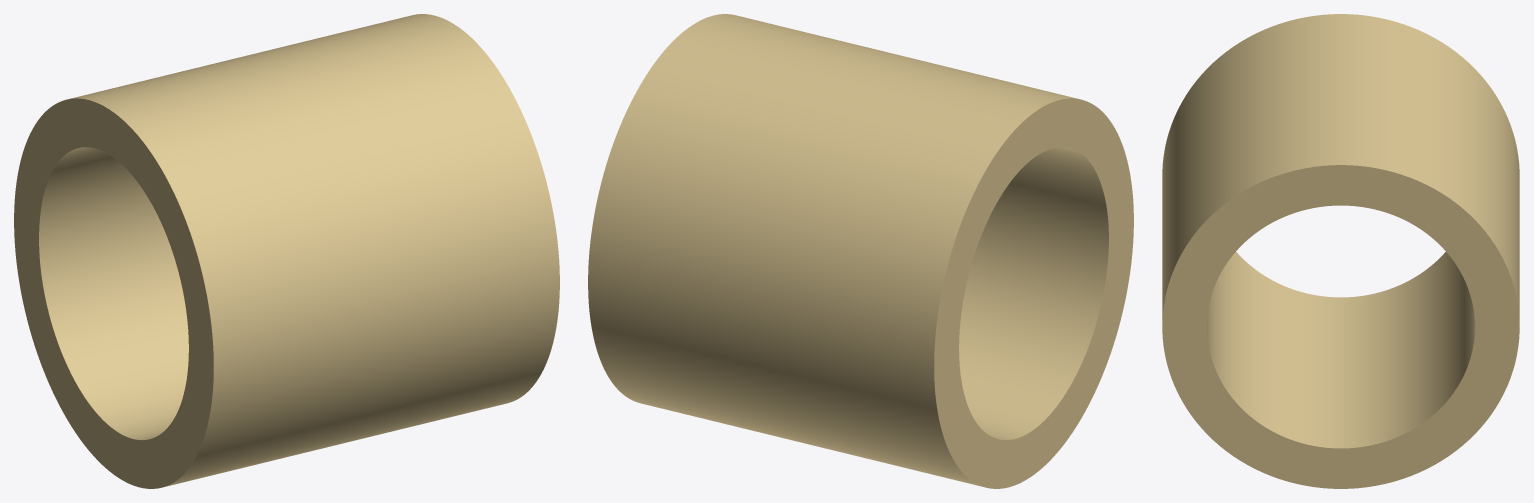
File: cam_shaft_bushing.glb
3 renders of one model, left to right at view 1: azimuth 30°, elevation 25°; view 2: azimuth 150°, elevation 25°; view 3: azimuth 270°, elevation 25°, orthographic. The views are drawn at different scales.
Visible parts, largest first — view 1: =>[0:1:1:2]; view 2: =>[0:1:1:2]; view 3: =>[0:1:1:2].
Boxes of the visible parts, bbox=[...] form: =>[0:1:1:2]: bbox=[14, 14, 559, 488]; =>[0:1:1:2]: bbox=[588, 14, 1133, 488]; =>[0:1:1:2]: bbox=[1162, 14, 1519, 488].
Bounding box in the file's own units: 0.0254 × 0.0254 × 0.0254.
